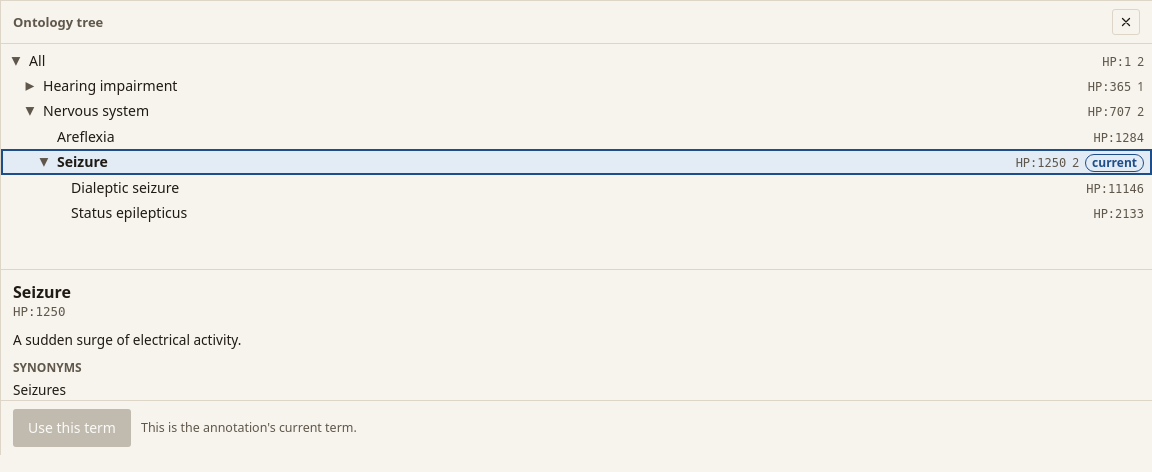
Test case: TreeBrowser: one walk › shows why assigning failed and stays usable
Click the list item "Status epilepticus": (129, 213) [1,200,1151,225]
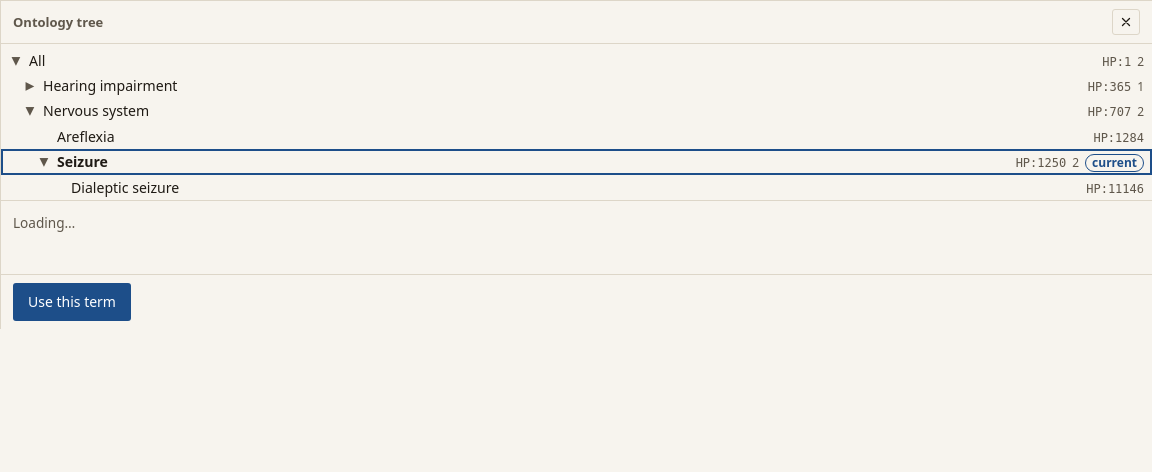
Click the button "Use this term": (72, 302) [13,283,131,321]
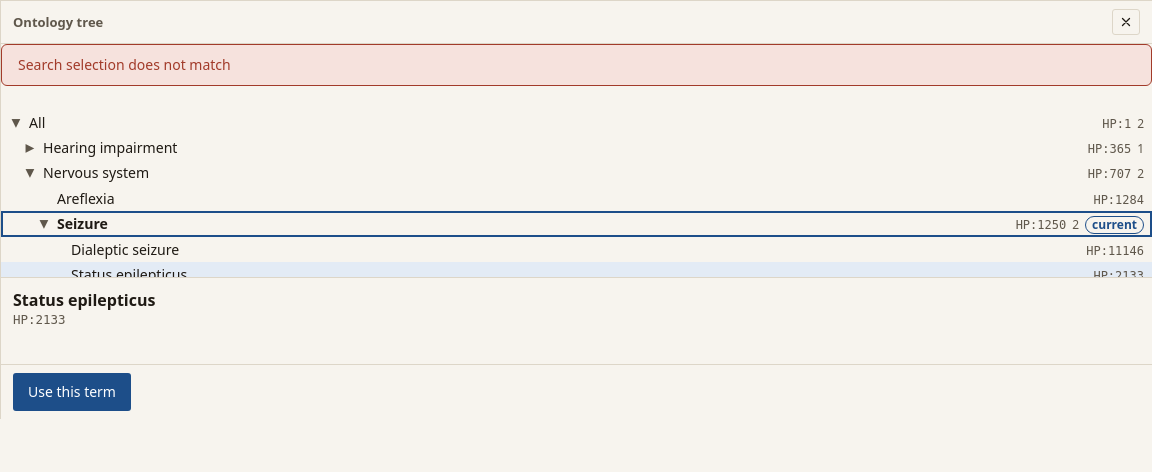
Expected: the button "Use this term" is enabled, [13,373,131,411]
Expected: the message reads "Search selection does not match", [18,55,231,74]
